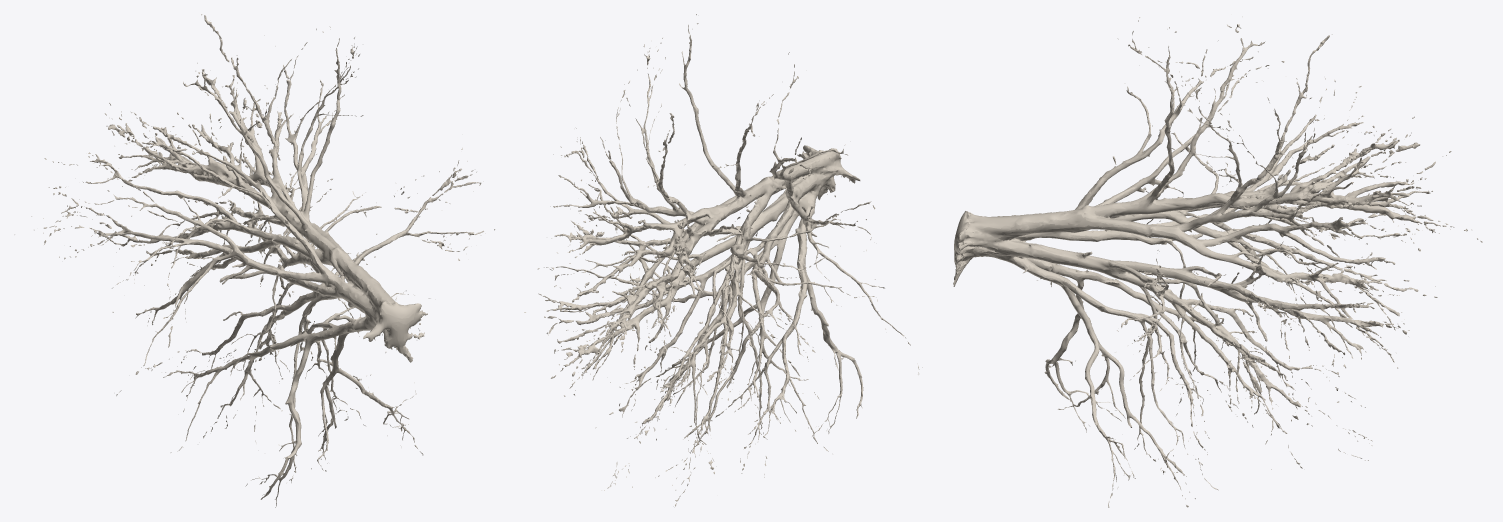
The model's file is tree_1_original.glb.
The picture shows the model from 3 angles, left to right: view 1: azimuth 30°, elevation 25°; view 2: azimuth 150°, elevation 25°; view 3: azimuth 270°, elevation 25°; orthographic projection. The views are drawn at different scales.
Parts seen in each view (by area): view 1: world; view 2: world; view 3: world.
Boxes of the visible parts, x1=… form: world: x1=14, y1=14, x2=495, y2=507; world: x1=524, y1=14, x2=922, y2=506; world: x1=953, y1=16, x2=1482, y2=507.
Bounding box in the file's own units: 1.66 × 1.86 × 1.88.
